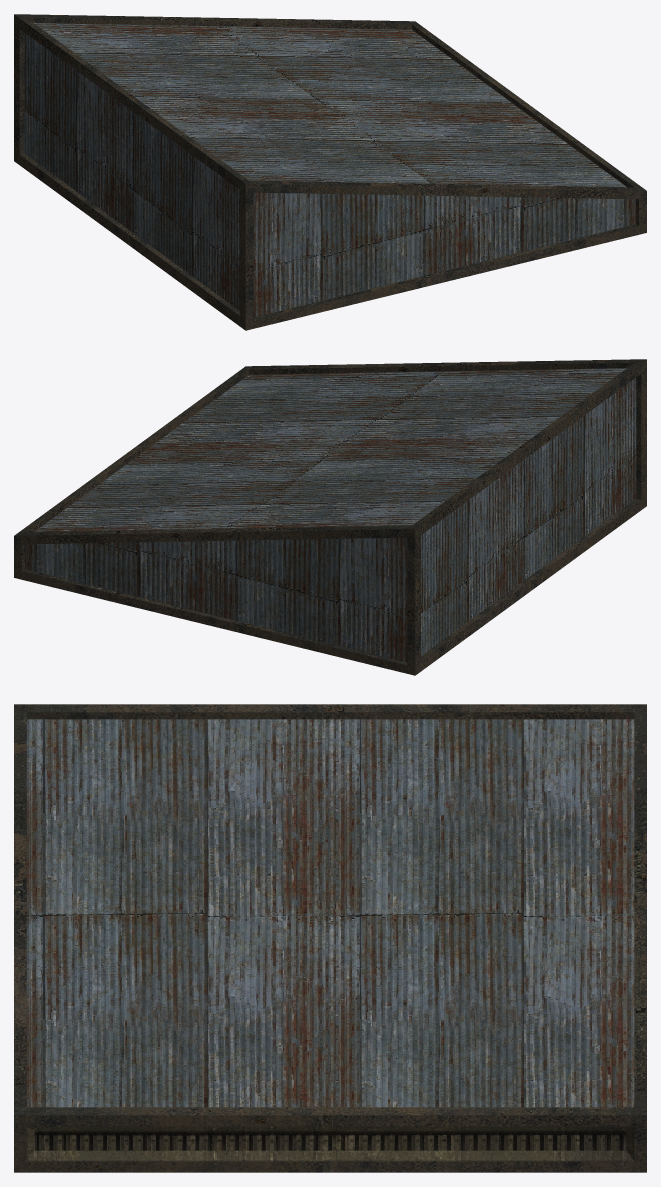
The model's file is roof_mh_2.glb.
3 renders of one model, top to bottom at view 1: azimuth 30°, elevation 25°; view 2: azimuth 150°, elevation 25°; view 3: azimuth 270°, elevation 25°, orthographic. The views are drawn at different scales.
Visible parts, largest first — view 1: roof_mh_2; view 2: roof_mh_2; view 3: roof_mh_2.
Part boxes in pixels (bbox=[...]): roof_mh_2: bbox=[14, 14, 646, 330]; roof_mh_2: bbox=[14, 359, 646, 675]; roof_mh_2: bbox=[14, 704, 646, 1172].
Bounding box in the file's own units: 4 × 1.4 × 4.
Materials: 5 (5 with a texture image).
